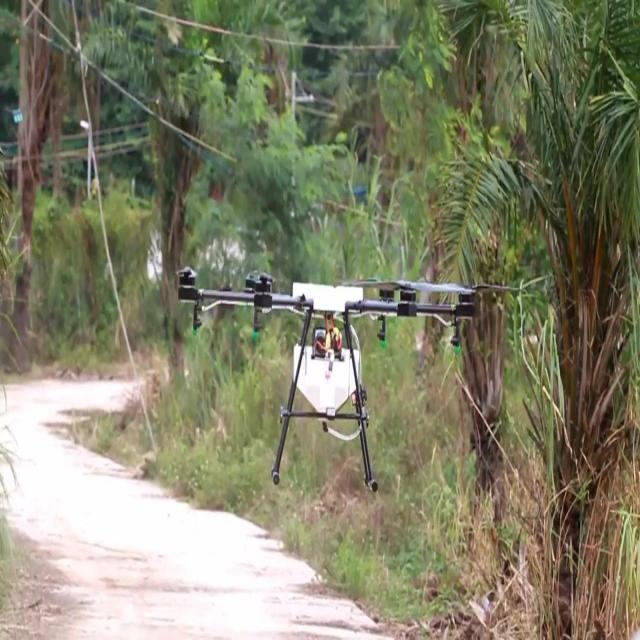UAV: (177, 262, 481, 495)
